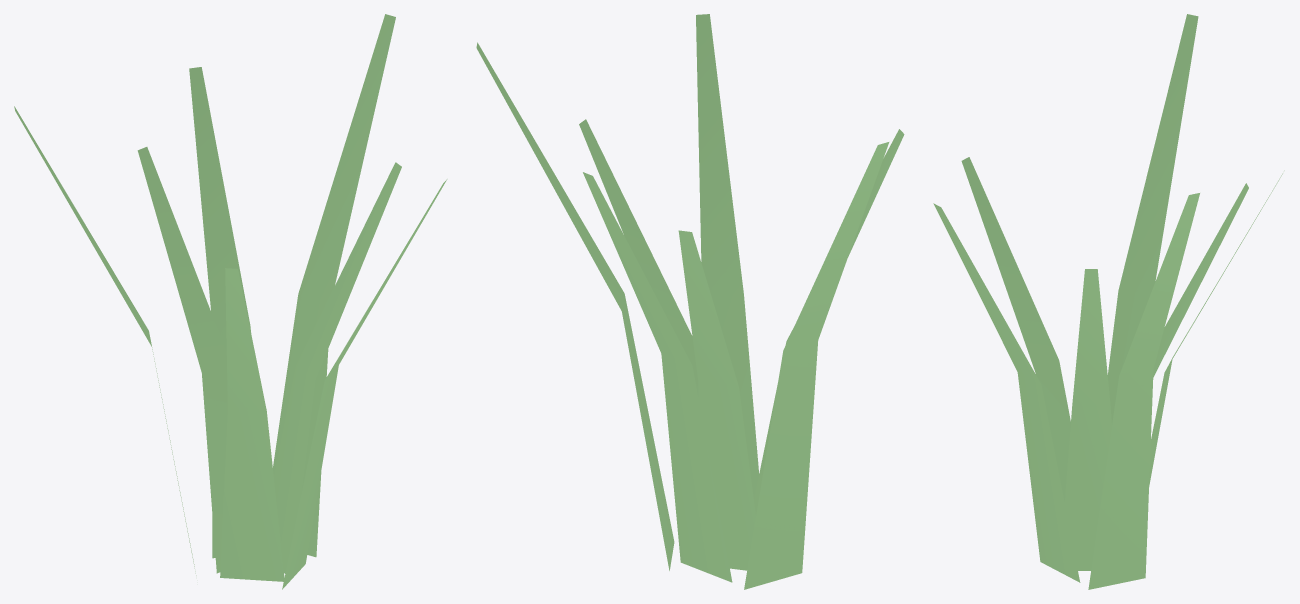
The model's file is prop_grass_a.glb.
The picture shows the model from 3 angles, left to right: view 1: azimuth 30°, elevation 25°; view 2: azimuth 150°, elevation 25°; view 3: azimuth 270°, elevation 25°; orthographic projection. The views are drawn at different scales.
Visible parts, largest first — view 1: SM_A_LOD0; view 2: SM_A_LOD0; view 3: SM_A_LOD0.
Boxes of the visible parts, <box> form: SM_A_LOD0: <box>14,14,447,589</box>; SM_A_LOD0: <box>476,14,904,589</box>; SM_A_LOD0: <box>933,14,1284,589</box>.
Size of what is drawn, in the model's own units: 0.8071 by 0.95 by 0.6636.
